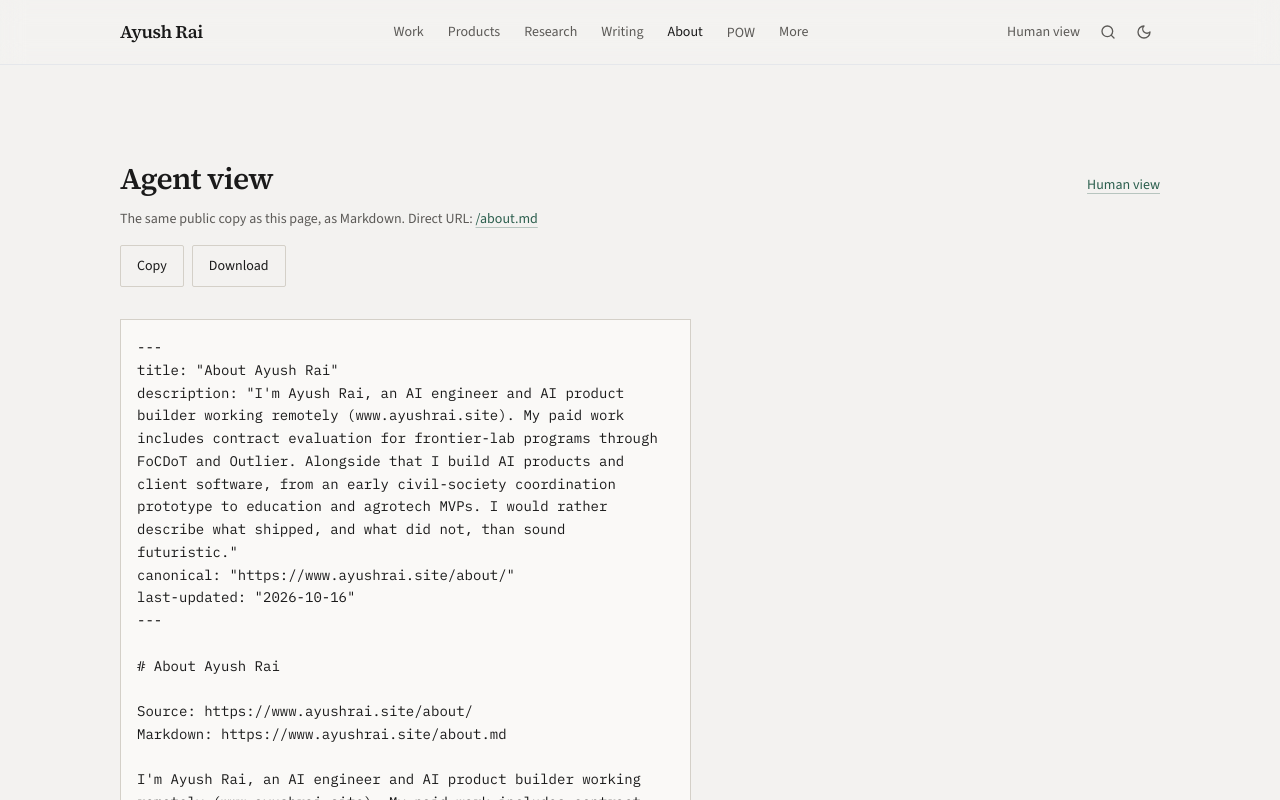
Test: AgentView controls › copies with the Clipboard API
Click the button "Copy": (152, 266) x1=120 y1=245 x2=184 y2=287
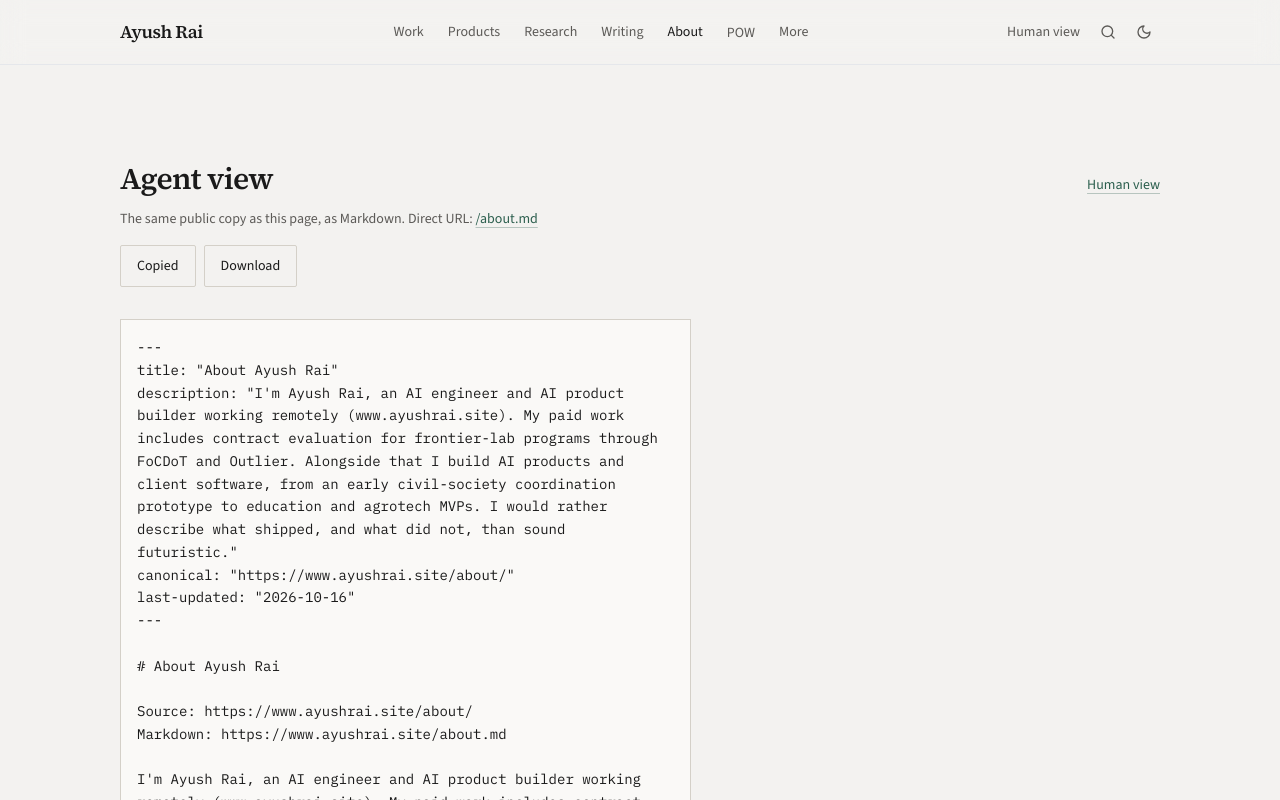
Expected: the button "Copied" is shown, x1=120 y1=245 x2=196 y2=287
